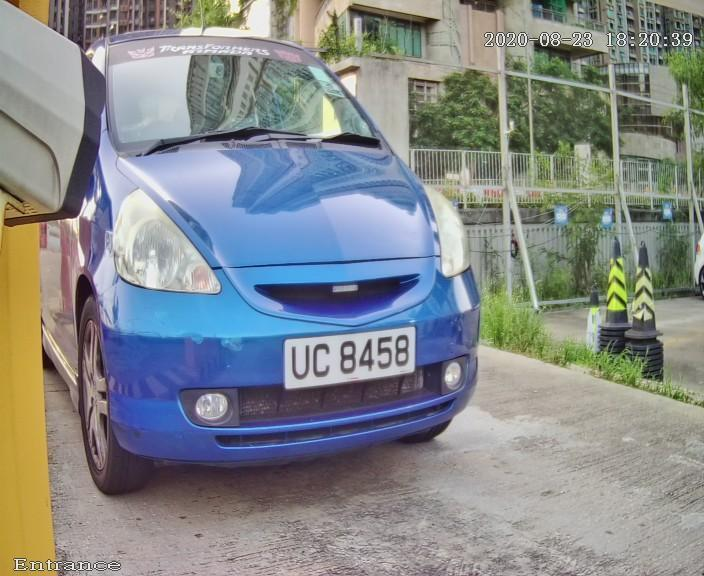Car: (26, 3, 522, 525)
License Plate: (259, 297, 445, 405)
